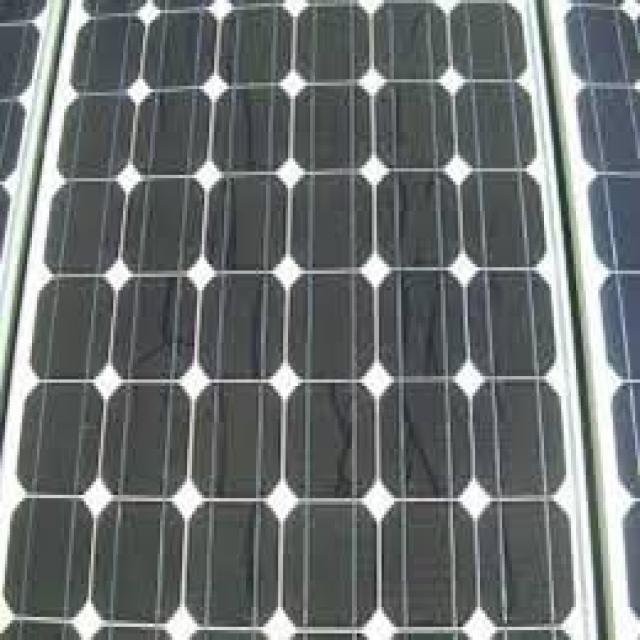faulty: (52, 14, 565, 640)
